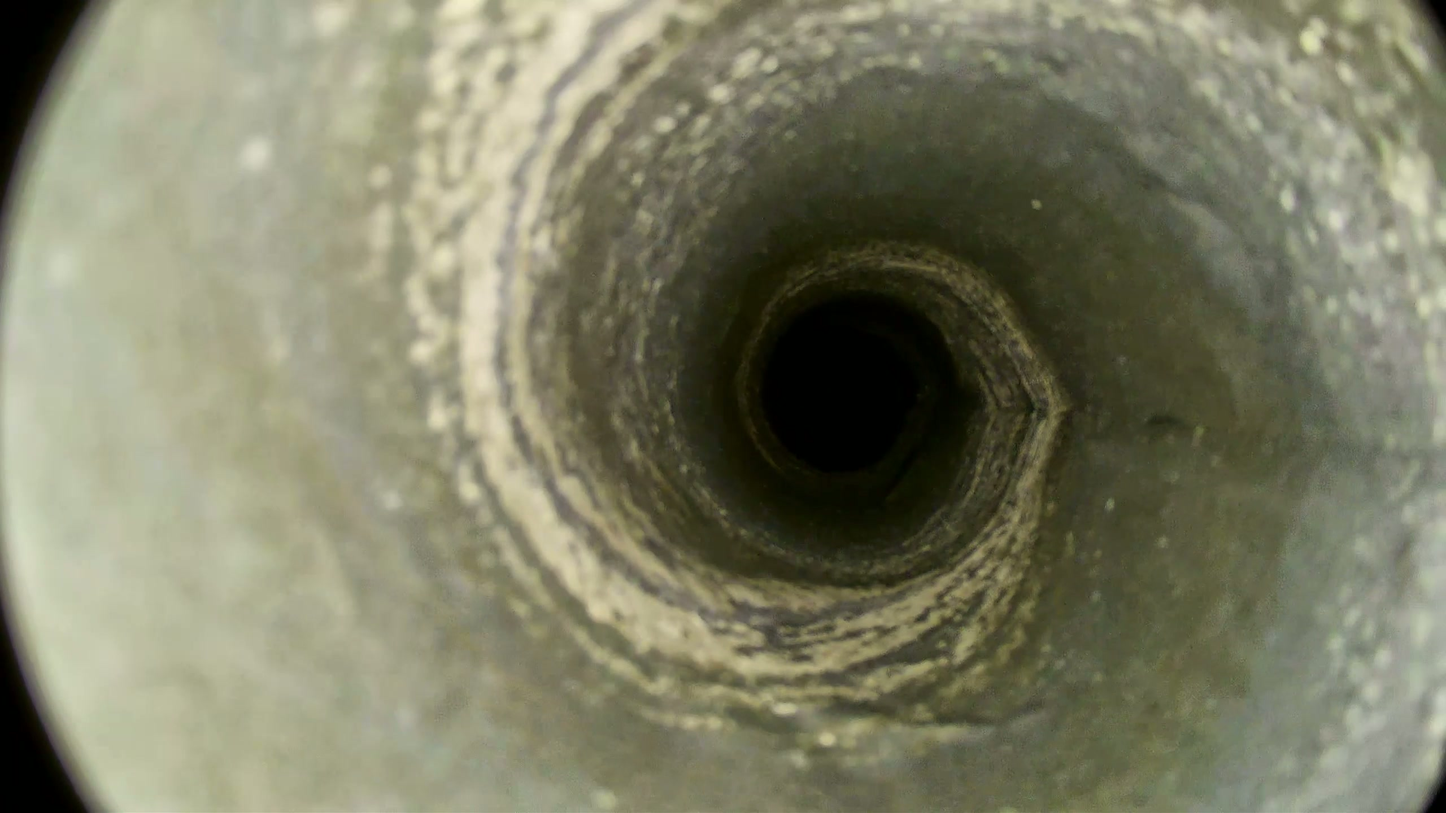hole: (766, 327, 914, 472)
